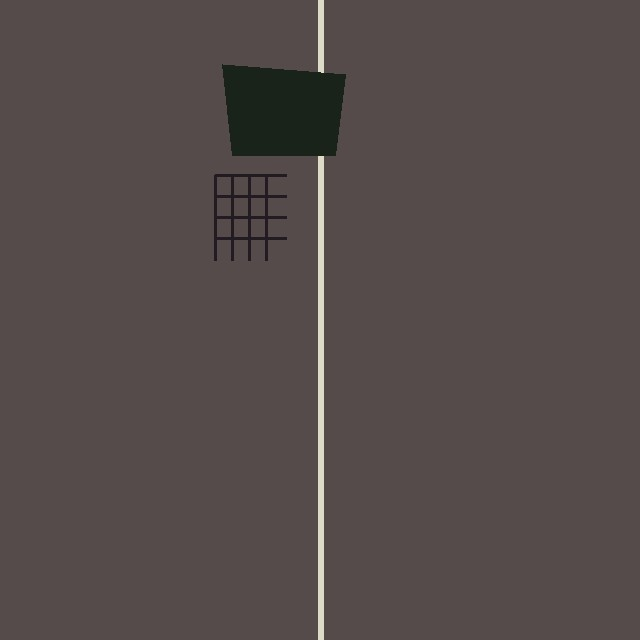alligator_crack: (215, 175, 286, 260)
damaged_surface: (222, 64, 345, 155)
